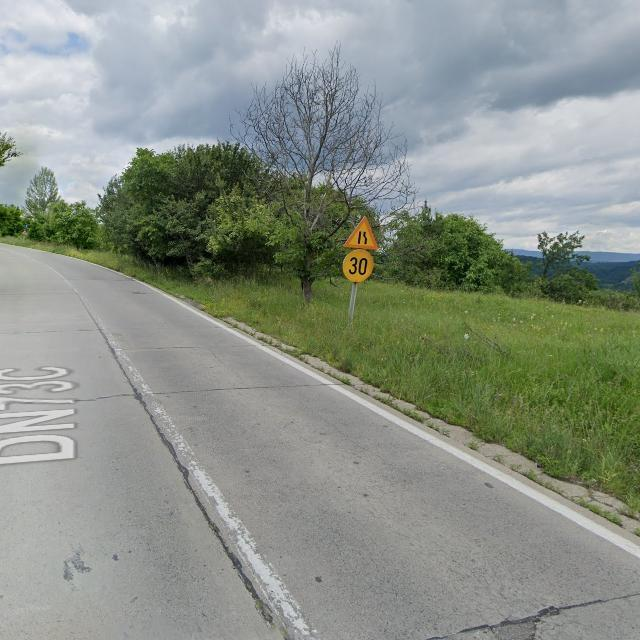forb_speed_over_30: (343, 249, 374, 283)
